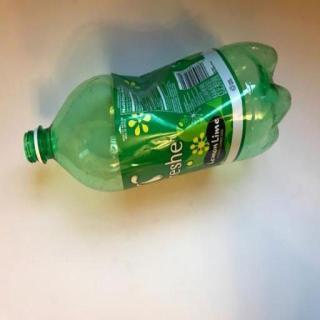Plastic-bottle: (24, 41, 293, 193)
